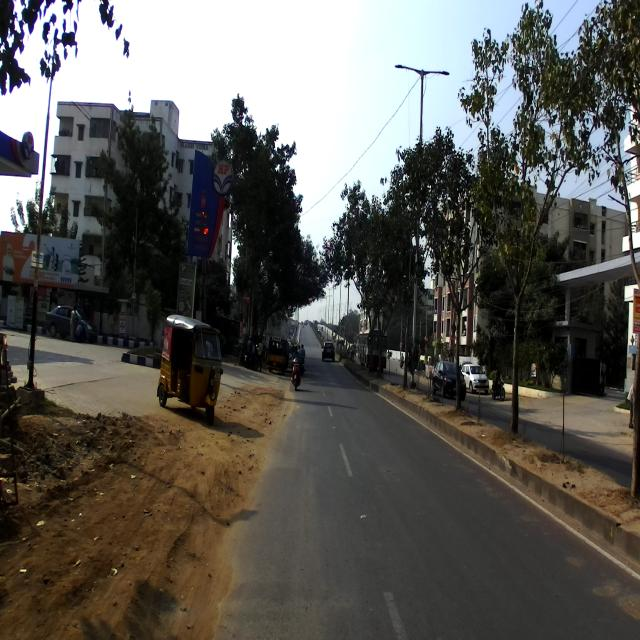auto ahead at: (156, 305, 223, 436)
